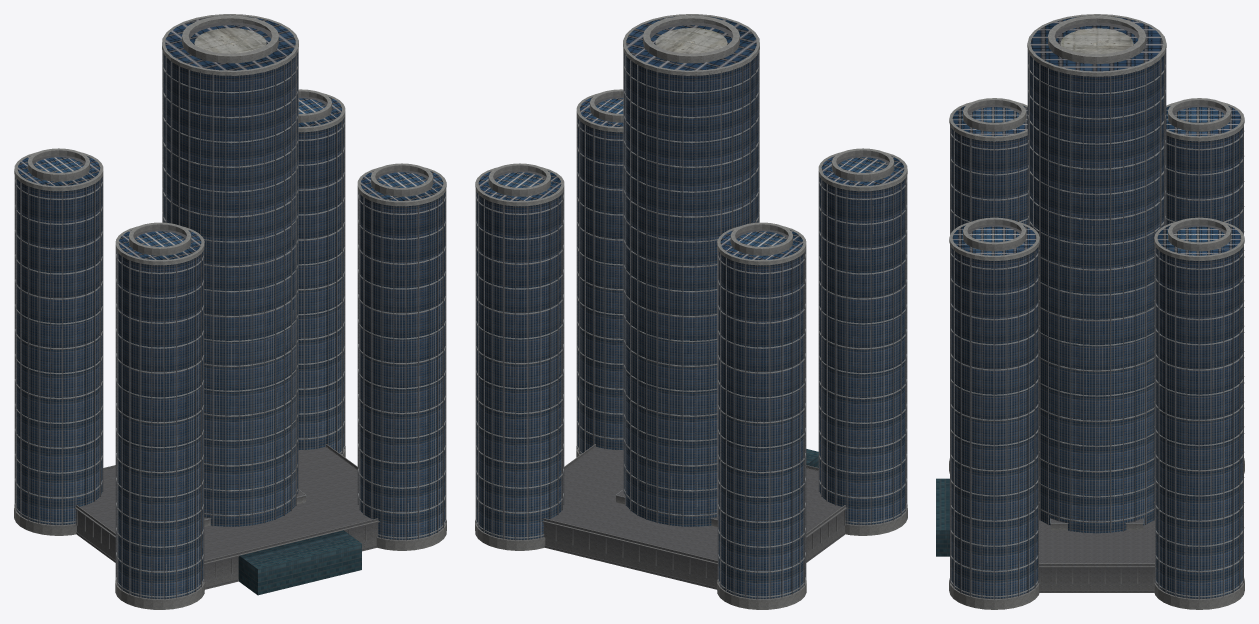
Rendered from ironport-towers_lod0.gltf.
The picture shows the model from 3 angles, left to right: view 1: azimuth 30°, elevation 25°; view 2: azimuth 150°, elevation 25°; view 3: azimuth 270°, elevation 25°; orthographic projection.
Parts seen in each view (by area): view 1: ironport-towers_cyl0, ironport-towers__v4_cyl_fins, ironport-towers_cyl1, ironport-towers_cyl2, ironport-towers_cyl3, ironport-towers_cyl4, ironport-towers__v4_cyl_crowns, ironport-towers_base, ironport-towers__atrium, ironport-towers__v4_stone_detail, ironport-towers__helipad; view 2: ironport-towers_cyl0, ironport-towers__v4_cyl_fins, ironport-towers_cyl3, ironport-towers_cyl4, ironport-towers_cyl1, ironport-towers_cyl2, ironport-towers_base, ironport-towers__v4_cyl_crowns, ironport-towers__v4_stone_detail, ironport-towers__helipad; view 3: ironport-towers_cyl0, ironport-towers__v4_cyl_fins, ironport-towers_cyl4, ironport-towers_cyl2, ironport-towers__v4_cyl_crowns, ironport-towers_cyl1, ironport-towers_cyl3, ironport-towers_base, ironport-towers__v4_stone_detail, ironport-towers__helipad, ironport-towers__atrium.
Part boxes in pixels (bbox=[...]): ironport-towers_cyl0: bbox=[163, 16, 297, 526]; ironport-towers__v4_cyl_fins: bbox=[14, 50, 446, 599]; ironport-towers_cyl1: bbox=[118, 230, 203, 599]; ironport-towers_cyl2: bbox=[360, 171, 445, 540]; ironport-towers_cyl3: bbox=[17, 156, 102, 525]; ironport-towers_cyl4: bbox=[298, 97, 343, 453]; ironport-towers__v4_cyl_crowns: bbox=[14, 14, 446, 609]; ironport-towers_base: bbox=[77, 446, 378, 587]; ironport-towers__atrium: bbox=[238, 530, 361, 595]; ironport-towers__v4_stone_detail: bbox=[74, 444, 379, 589]; ironport-towers__helipad: bbox=[194, 28, 266, 53]; ironport-towers_cyl0: bbox=[624, 16, 758, 526]; ironport-towers__v4_cyl_fins: bbox=[475, 50, 907, 599]; ironport-towers_cyl3: bbox=[718, 230, 803, 599]; ironport-towers_cyl4: bbox=[476, 171, 561, 540]; ironport-towers_cyl1: bbox=[819, 156, 904, 525]; ironport-towers_cyl2: bbox=[578, 97, 623, 453]; ironport-towers_base: bbox=[543, 446, 844, 587]; ironport-towers__v4_cyl_crowns: bbox=[475, 14, 907, 609]; ironport-towers__v4_stone_detail: bbox=[542, 444, 847, 589]; ironport-towers__helipad: bbox=[655, 28, 727, 53]; ironport-towers_cyl0: bbox=[1028, 17, 1165, 533]; ironport-towers__v4_cyl_fins: bbox=[950, 49, 1244, 599]; ironport-towers_cyl4: bbox=[1156, 225, 1242, 598]; ironport-towers_cyl2: bbox=[951, 225, 1037, 598]; ironport-towers__v4_cyl_crowns: bbox=[949, 14, 1244, 609]; ironport-towers_cyl1: bbox=[951, 106, 1027, 232]; ironport-towers_cyl3: bbox=[1166, 106, 1242, 231]; ironport-towers_base: bbox=[1039, 520, 1154, 590]; ironport-towers__v4_stone_detail: bbox=[1038, 518, 1155, 592]; ironport-towers__helipad: bbox=[1060, 28, 1133, 54]; ironport-towers__atrium: bbox=[936, 478, 949, 556].
Size of the model in its own units: 153 by 224 by 127.
